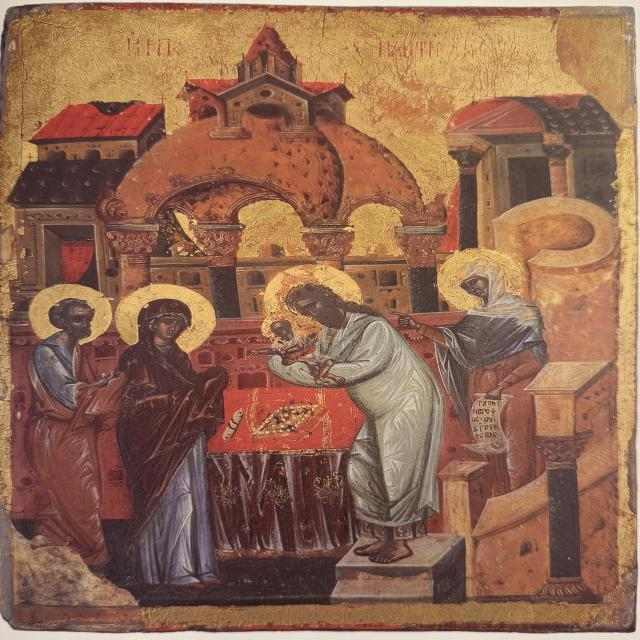aura: (119, 283, 217, 357), (263, 266, 363, 330), (435, 248, 527, 312), (28, 283, 114, 350), (260, 316, 304, 343)
book: (251, 400, 326, 444)
christ_child: (233, 312, 351, 386)
christ_hand: (238, 341, 278, 362)
saint: (251, 257, 449, 565), (113, 281, 247, 595), (18, 276, 128, 568), (420, 243, 564, 463)
scroll: (465, 389, 524, 465), (222, 404, 254, 450)
